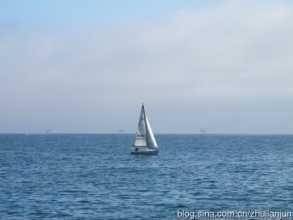fanchuan: (122, 98, 165, 155)
